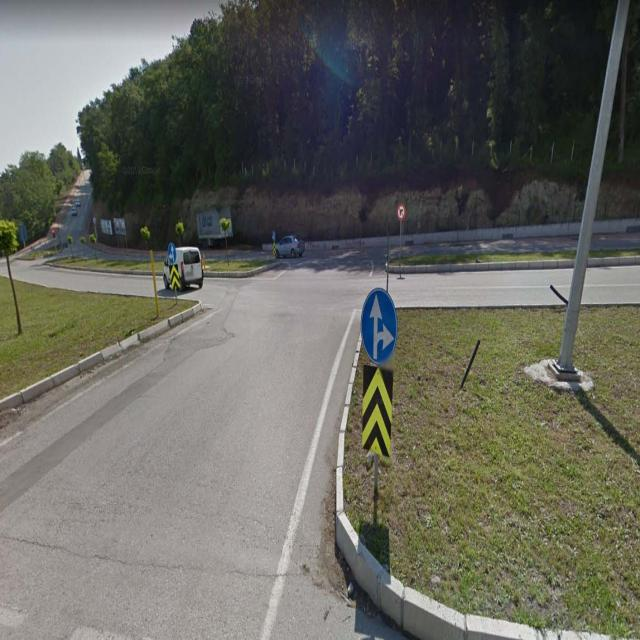ilerisag: (361, 288, 398, 365)
ilerisol: (168, 243, 176, 263)
sagadonulmez: (397, 204, 406, 222)
